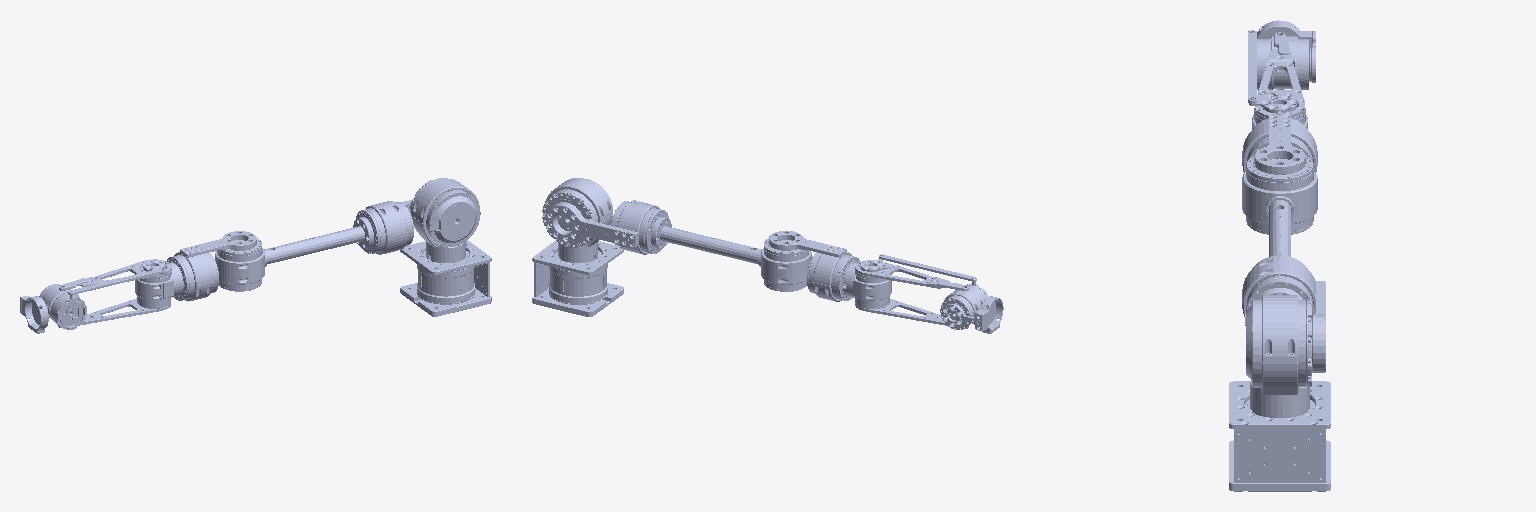
URDF robot description (coludata_arm):
<?xml version="1.0" encoding="utf-8"?>
<!-- This URDF was automatically created by SolidWorks to URDF Exporter! Originally created by Stephen Brawner (brawner@gmail.com)
     Commit Version: 1.6.0-4-g7f85cfe  Build Version: 1.6.7995.38578
     For more information, please see http://wiki.ros.org/sw_urdf_exporter -->
<robot name="coludata_arm">
  <link name="base_link">
    <inertial>
      <origin xyz="0.00199 0 0.03161" rpy="0 0 0"/>
      <mass value="0.96109"/>
      <inertia ixx="0.00078197" ixy="-4.2496E-08" ixz="1.3842E-06" iyy="0.00082825" iyz="-9.0664E-08" izz="0.0009242"/>
    </inertial>
    <visual>
      <origin xyz="0 0 0" rpy="0 0 0"/>
      <geometry>
        <mesh filename="package://coludata_arm_ros/meshes/base_link.STL"/>
      </geometry>
      <material name="">
        <color rgba="0.79216 0.81961 0.93333 1"/>
      </material>
    </visual>
    <collision>
      <origin xyz="0 0 0" rpy="0 0 0"/>
      <geometry>
        <mesh filename="package://coludata_arm_ros/meshes/base_link.STL"/>
      </geometry>
    </collision>
  </link>
  <link name="link1">
    <inertial>
      <origin xyz="6E-05 1E-05 -0.00317" rpy="0 0 0"/>
      <mass value="0.93379"/>
      <inertia ixx="0.00072961" ixy="1.5052E-06" ixz="5.7013E-07" iyy="0.00087621" iyz="9.0644E-08" izz="0.00059302"/>
    </inertial>
    <visual>
      <origin xyz="0 0 0" rpy="0 0 0"/>
      <geometry>
        <mesh filename="package://coludata_arm_ros/meshes/link1.STL"/>
      </geometry>
      <material name="">
        <color rgba="0.79216 0.81961 0.93333 1"/>
      </material>
    </visual>
    <collision>
      <origin xyz="0 0 0" rpy="0 0 0"/>
      <geometry>
        <mesh filename="package://coludata_arm_ros/meshes/link1.STL"/>
      </geometry>
    </collision>
  </link>
  <joint name="joint1" type="revolute">
    <origin xyz="0 0 0.1226" rpy="0 0 0"/>
    <parent link="base_link"/>
    <child link="link1"/>
    <axis xyz="0 0 -1"/>
    <limit lower="-3.14" upper="3.14" effort="8" velocity="8"/>
  </joint>
  <link name="link2">
    <inertial>
      <origin xyz="-1E-05 -0.0844 0.00403" rpy="0 0 0"/>
      <mass value="0.6118"/>
      <inertia ixx="0.000519333" ixy="1.5821E-07" ixz="-6.6051E-08" iyy="0.000216234" iyz="2.3558E-06" izz="0.000450425"/>
    </inertial>
    <visual>
      <origin xyz="0 0 0" rpy="0 0 0"/>
      <geometry>
        <mesh filename="package://coludata_arm_ros/meshes/link2.STL"/>
      </geometry>
      <material name="">
        <color rgba="0.79216 0.81961 0.93333 1"/>
      </material>
    </visual>
    <collision>
      <origin xyz="0 0 0" rpy="0 0 0"/>
      <geometry>
        <mesh filename="package://coludata_arm_ros/meshes/link2.STL"/>
      </geometry>
    </collision>
  </link>
  <joint name="joint2" type="revolute">
    <origin xyz="0 0 0" rpy="0.0 -1.5708 -1.5708"/>
    <parent link="link1"/>
    <child link="link2"/>
    <axis xyz="0 0 -1"/>
    <limit lower="-3.14" upper="3.14" effort="8" velocity="8"/>
  </joint>
  <link name="link3">
    <inertial>
      <origin xyz="1E-05 -0.00041 -0.02402" rpy="0 0 0"/>
      <mass value="0.66978"/>
      <inertia ixx="0.0020443" ixy="1.5835E-07" ixz="6.6033E-08" iyy="0.0020619" iyz="-3.1592E-07" izz="0.00012287"/>
    </inertial>
    <visual>
      <origin xyz="0 0 0" rpy="0 0 0"/>
      <geometry>
        <mesh filename="package://coludata_arm_ros/meshes/link3.STL"/>
      </geometry>
      <material name="">
        <color rgba="0.79216 0.81961 0.93333 1"/>
      </material>
    </visual>
    <collision>
      <origin xyz="0 0 0" rpy="0 0 0"/>
      <geometry>
        <mesh filename="package://coludata_arm_ros/meshes/link3.STL"/>
      </geometry>
    </collision>
  </link>
  <joint name="joint3" type="revolute">
    <origin xyz="0 -0.3115 0" rpy="1.5708 1.5708 0"/>
    <parent link="link2"/>
    <child link="link3"/>
    <axis xyz="0 0 -1"/>
    <limit lower="-3.14" upper="3.14" effort="8" velocity="8"/>
  </joint>
  <link name="link4">
    <inertial>
      <origin xyz="-6E-05 -0.06982 0.00259" rpy="0 0 0"/>
      <mass value="0.50928"/>
      <inertia ixx="0.0002451" ixy="7.4695E-08" ixz="-2.092E-08" iyy="0.00013061" iyz="7.232E-07" izz="0.00020848"/>
    </inertial>
    <visual>
      <origin xyz="0 0 0" rpy="0 0 0"/>
      <geometry>
        <mesh filename="package://coludata_arm_ros/meshes/link4.STL"/>
      </geometry>
      <material name="">
        <color rgba="0.79216 0.81961 0.93333 1"/>
      </material>
    </visual>
    <collision>
      <origin xyz="0 0 0" rpy="0 0 0"/>
      <geometry>
        <mesh filename="package://coludata_arm_ros/meshes/link4.STL"/>
      </geometry>
    </collision>
  </link>
  <joint name="joint4" type="revolute">
    <origin xyz="0 0 0" rpy="-1.5708 0 0"/>
    <parent link="link3"/>
    <child link="link4"/>
    <axis xyz="0 0 -1"/>
    <limit lower="-3.14" upper="3.14" effort="8" velocity="8"/>
  </joint>
  <link name="link5">
    <inertial>
      <origin xyz="-1E-05 -0.00116 -0.13122" rpy="0 0 0"/>
      <mass value="0.33845"/>
      <inertia ixx="0.003843274" ixy="4.0019E-08" ixz="-3.007E-07" iyy="0.003866386" iyz="-1.106E-06" izz="8.8958E-05"/>
    </inertial>
    <visual>
      <origin xyz="0 0 0" rpy="0 0 0"/>
      <geometry>
        <mesh filename="package://coludata_arm_ros/meshes/link5.STL"/>
      </geometry>
      <material name="">
        <color rgba="0.79216 0.81961 0.93333 1"/>
      </material>
    </visual>
    <collision>
      <origin xyz="0 0 0" rpy="0 0 0"/>
      <geometry>
        <mesh filename="package://coludata_arm_ros/meshes/link5.STL"/>
      </geometry>
    </collision>
  </link>
  <joint name="joint5" type="revolute">
    <origin xyz="0 -0.268 0" rpy="1.5708 0 0"/>
    <parent link="link4"/>
    <child link="link5"/>
    <axis xyz="0 0 -1"/>
    <limit lower="-3.14" upper="3.14" effort="8" velocity="8"/>
  </joint>
  <link name="link6">
    <inertial>
      <origin xyz="-0.00583 -0.00039 0.00256" rpy="0 0 0"/>
      <mass value="0.25257"/>
      <inertia ixx="5.1289E-05" ixy="6.7663E-09" ixz="-3.0444E-05" iyy="0.004025579" iyz="-2.2827E-08" izz="0.004031028"/>
    </inertial>
    <visual>
      <origin xyz="0 0 0" rpy="0 0 0"/>
      <geometry>
        <mesh filename="package://coludata_arm_ros/meshes/link6.STL"/>
      </geometry>
      <material name="">
        <color rgba="0.79216 0.81961 0.93333 1"/>
      </material>
    </visual>
    <collision>
      <origin xyz="0 0 0" rpy="0 0 0"/>
      <geometry>
        <mesh filename="package://coludata_arm_ros/meshes/link6.STL"/>
      </geometry>
    </collision>
  </link>
  <joint name="joint6" type="revolute">
    <origin xyz="0 0 0" rpy="-1.5707926535897934 -1.5707926535897934 0"/>
    <parent link="link5"/>
    <child link="link6"/>
    <axis xyz="0 0 1"/>
    <limit lower="-3.14" upper="3.14" effort="8" velocity="8"/>
  </joint>
  <link name="link7">
    <inertial>
      <origin xyz="0.030953 -0.0021486 0.012415" rpy="0 0 0"/>
      <mass value="0.032648"/>
      <inertia ixx="1.3695E-05" ixy="9.6653E-08" ixz="-2.7207E-07" iyy="1.6394E-05" iyz="-3.9262E-07" izz="1.1751E-05"/>
    </inertial>
    <visual>
      <origin xyz="0 0 0" rpy="0 0 0"/>
      <geometry>
        <mesh filename="package://coludata_arm_ros/meshes/link7.STL"/>
      </geometry>
      <material name="">
        <color rgba="0.79216 0.81961 0.93333 1"/>
      </material>
    </visual>
    <collision>
      <origin xyz="0 0 0" rpy="0 0 0"/>
      <geometry>
        <mesh filename="package://coludata_arm_ros/meshes/link7.STL"/>
      </geometry>
    </collision>
  </link>
  <joint name="joint7" type="revolute">
    <origin xyz="0 0 0" rpy="1.5708 0 0"/>
    <parent link="link6"/>
    <child link="link7"/>
    <axis xyz="0 0 1"/>
    <limit lower="-3.14" upper="3.14" effort="8" velocity="8"/>
  </joint>
</robot>

--- Facts derived from the render (not from the file) ---
3 views of the same robot in one strip: view 1: azimuth 30°, elevation 25°; view 2: azimuth 150°, elevation 25°; view 3: azimuth 270°, elevation 25° (orthographic).
Robot: coludata_arm — 8 links, 7 joints (7 revolute); root link base_link; default pose: every joint at zero.
Links seen in each view (by area): view 1: base_link, link1, link3, link5, link4, link2, link6, link7; view 2: base_link, link3, link2, link5, link1, link4, link6, link7; view 3: base_link, link1, link3, link2, link4, link6, link5, link7.
Link boxes in pixels (box(x1,y1,x2,y2)): base_link: box(400, 240, 491, 316); link1: box(410, 178, 480, 262); link3: box(215, 217, 373, 291); link5: box(58, 259, 183, 327); link4: box(167, 231, 256, 301); link2: box(356, 199, 413, 254); link6: box(39, 260, 165, 329); link7: box(20, 296, 48, 333); base_link: box(532, 241, 623, 316); link3: box(651, 217, 811, 291); link2: box(546, 200, 668, 254); link5: box(843, 260, 968, 328); link1: box(542, 178, 612, 262); link4: box(769, 231, 860, 301); link6: box(861, 254, 987, 329); link7: box(942, 296, 1003, 333); base_link: box(1229, 381, 1330, 491); link1: box(1245, 295, 1311, 417); link3: box(1242, 156, 1317, 256); link2: box(1242, 255, 1325, 372); link4: box(1242, 115, 1317, 174); link6: box(1248, 30, 1310, 113); link5: box(1252, 32, 1307, 128); link7: box(1257, 20, 1315, 82).
Size in the robot's own frame: 0.6695 by 0.09 by 0.1655 metres.
Meshes: 8 distinct files referenced, 8 mesh visuals loaded (8 binary STL).
